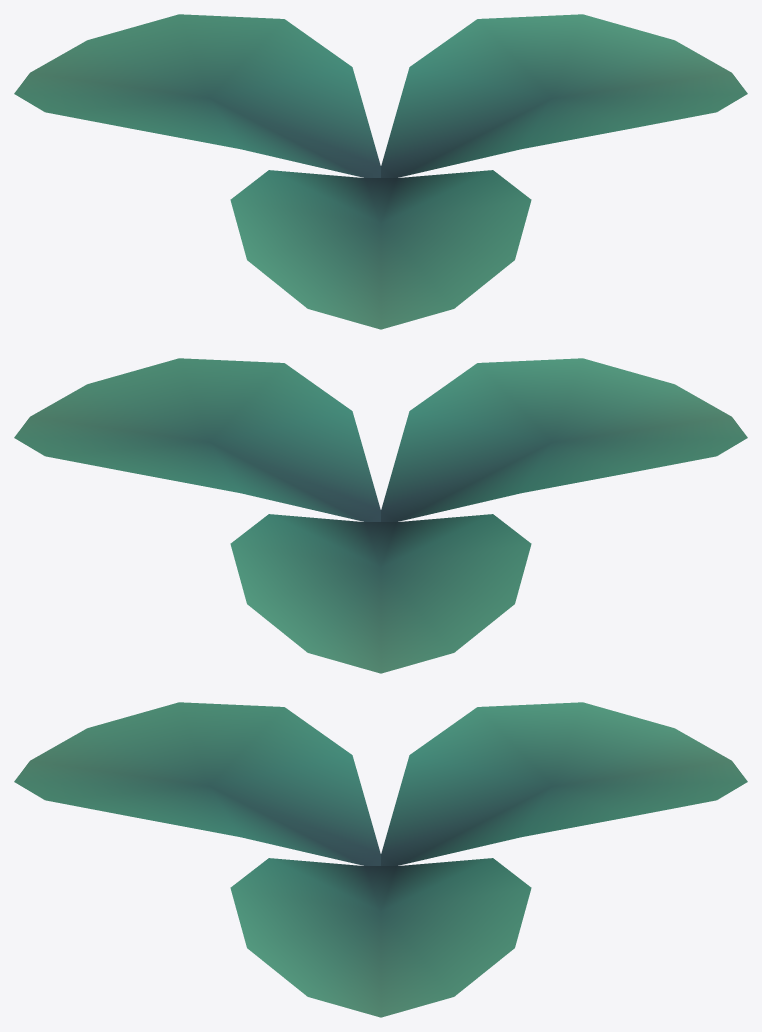
Rendered from S_Clover.fbx.
3 views of the same model, one above another, from view 1: azimuth 30°, elevation 25°; view 2: azimuth 150°, elevation 25°; view 3: azimuth 270°, elevation 25° (orthographic).
Visible parts, largest first — view 1: Clover_GEO; view 2: Clover_GEO; view 3: Clover_GEO.
Part boxes in pixels (x1,y1,x2,y2): Clover_GEO: [14, 14, 747, 329]; Clover_GEO: [14, 358, 747, 673]; Clover_GEO: [14, 702, 747, 1017].
Bounding box in the file's own units: 2.67 × 0.8962 × 2.9.
